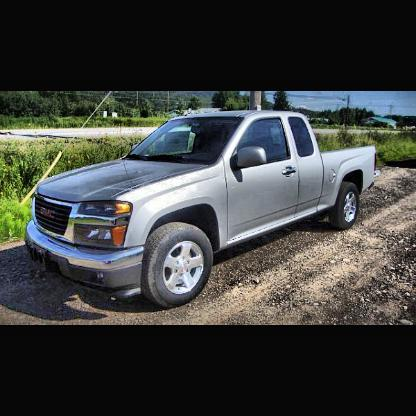GMC Canyon Extended Cab 2012: (26, 106, 385, 314)
